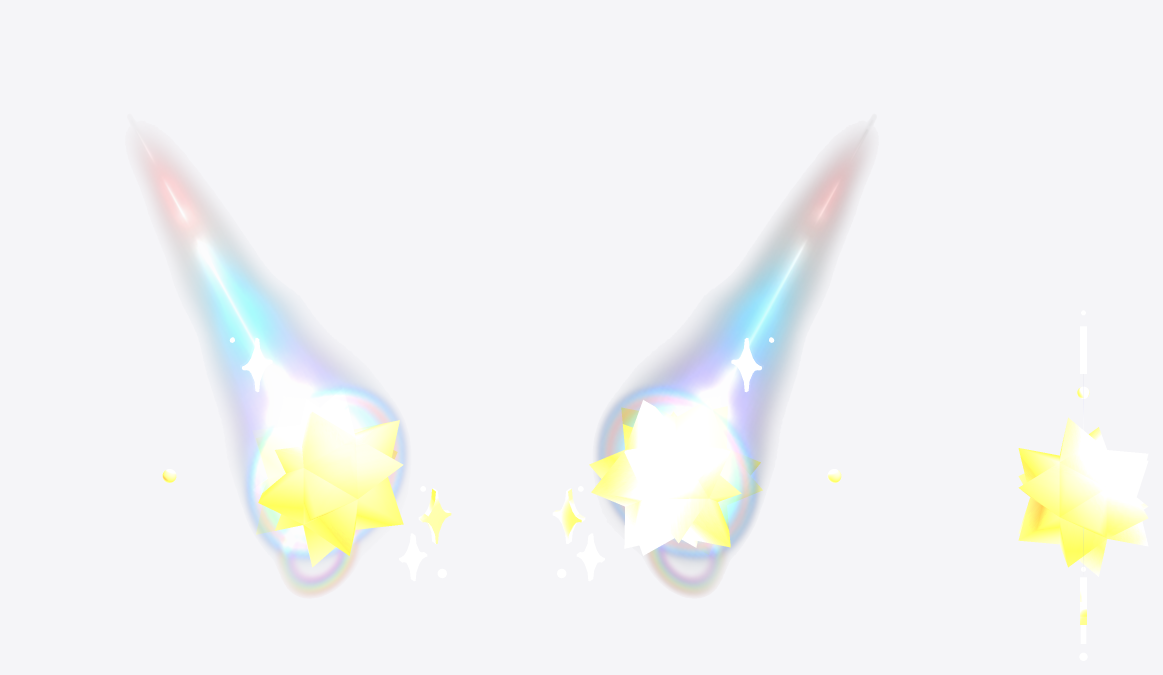
The model's file is star_yellow.glb.
3 renders of one model, left to right at view 1: azimuth 30°, elevation 25°; view 2: azimuth 150°, elevation 25°; view 3: azimuth 270°, elevation 25°, orthographic. The views are drawn at different scales.
Visible parts, largest first — view 1: trail3, Star_Shape, Sparkle_2, Sparkle_3; view 2: trail3, Star_Shape, Sparkle_2, Sparkle_3; view 3: Star_Shape, Sparkle_2, Sparkle_3.
Boxes of the visible parts, box(x1,y1,x2,y2) form: trail3: box(135, 129, 406, 593); Star_Shape: box(252, 388, 403, 567); Sparkle_2: box(418, 488, 451, 543); Sparkle_3: box(240, 336, 272, 392); trail3: box(597, 129, 868, 593); Star_Shape: box(589, 400, 762, 555); Sparkle_2: box(552, 488, 585, 543); Sparkle_3: box(731, 336, 763, 392); Star_Shape: box(1018, 417, 1148, 576); Sparkle_2: box(1080, 577, 1086, 624); Sparkle_3: box(1080, 326, 1086, 373).
Size of the model in its own units: 0.0727 by 0.0972 by 0.0195.
Materials: 3 (1 with a texture image).
